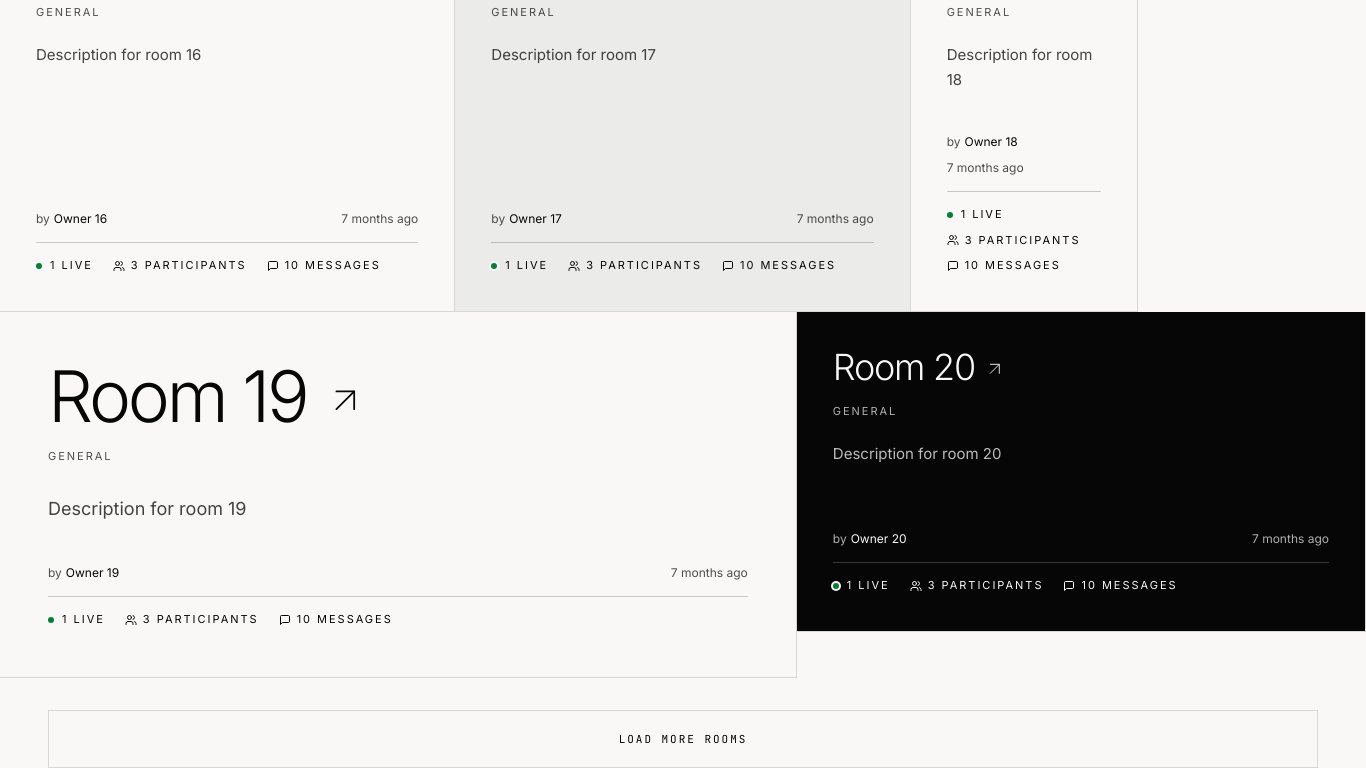
Scenario: RoomListClient › deduplicates rooms already shown when loading more
The width and height of the screenshot is (1366, 768).
(page scrolled)
Click the button "LOAD MORE ROOMS" at (683, 739), box left=48, top=710, right=1318, bottom=767
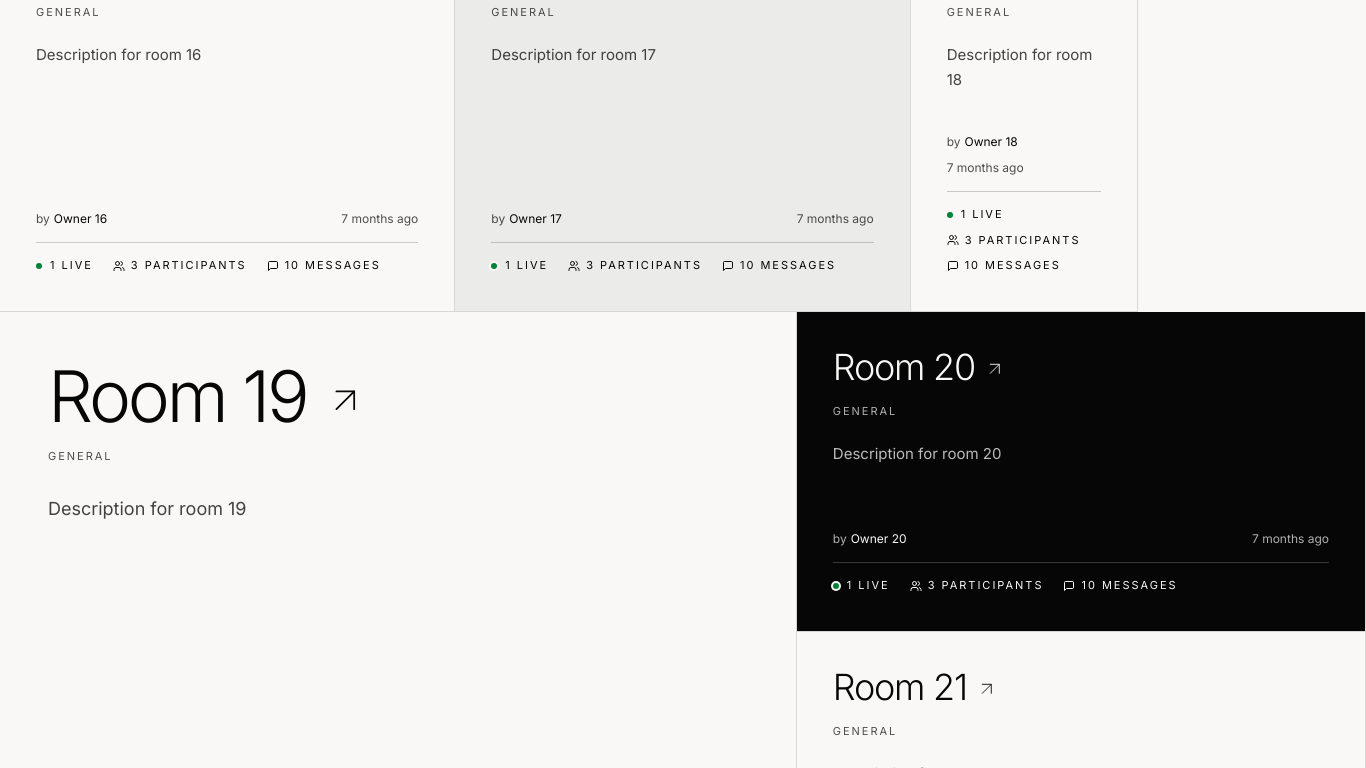
Check: the number of links "Room 20" is 1, box left=833, top=345, right=1006, bottom=389
Check: the link "Room 21" is shown, box left=833, top=665, right=997, bottom=709
